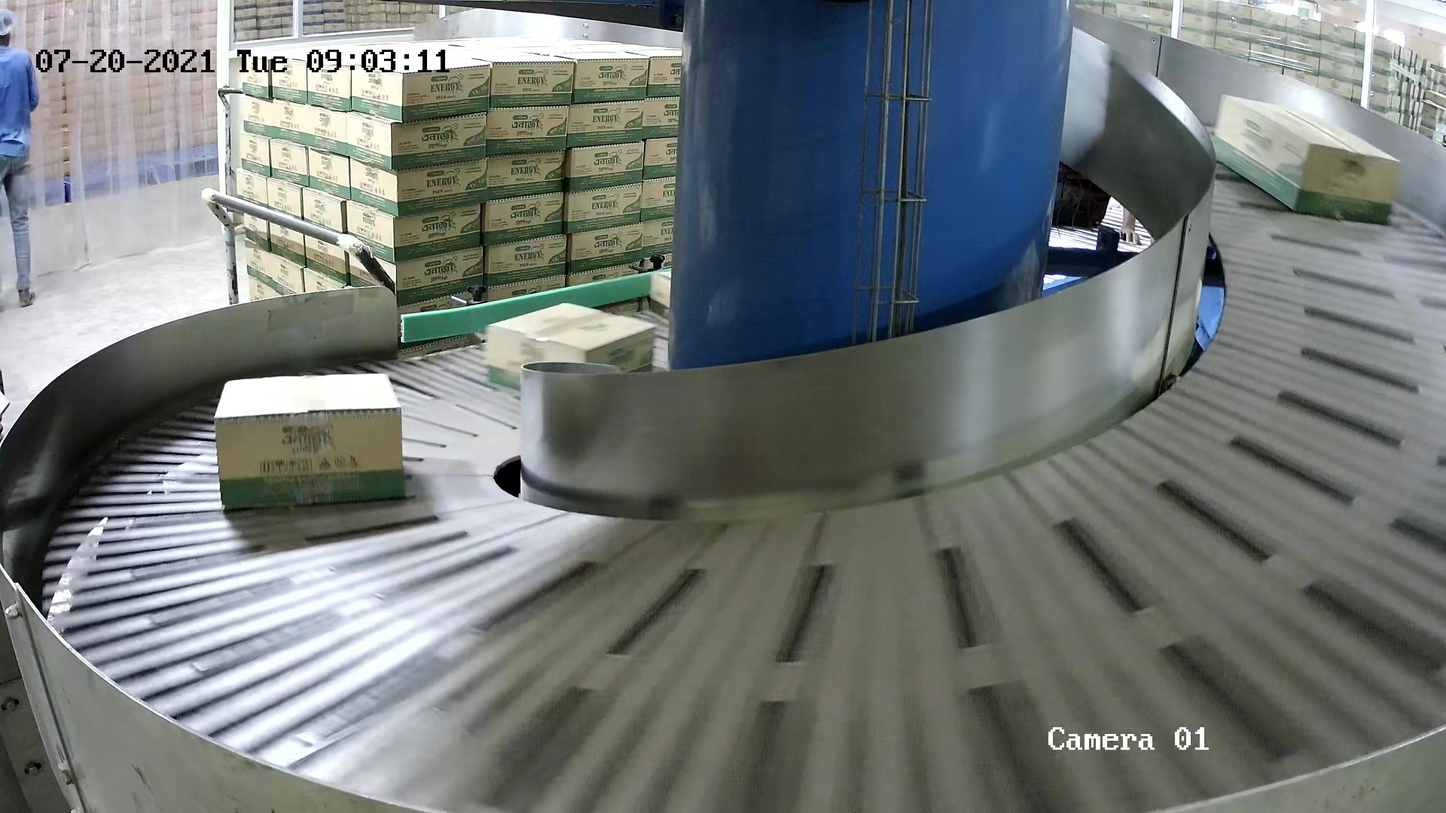Box: (214, 371, 412, 512), (1209, 91, 1403, 226), (484, 300, 658, 404)
